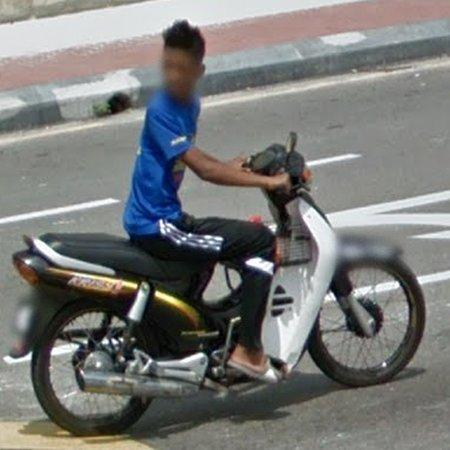motorcycles: (13, 234, 260, 436), (248, 145, 426, 387)
